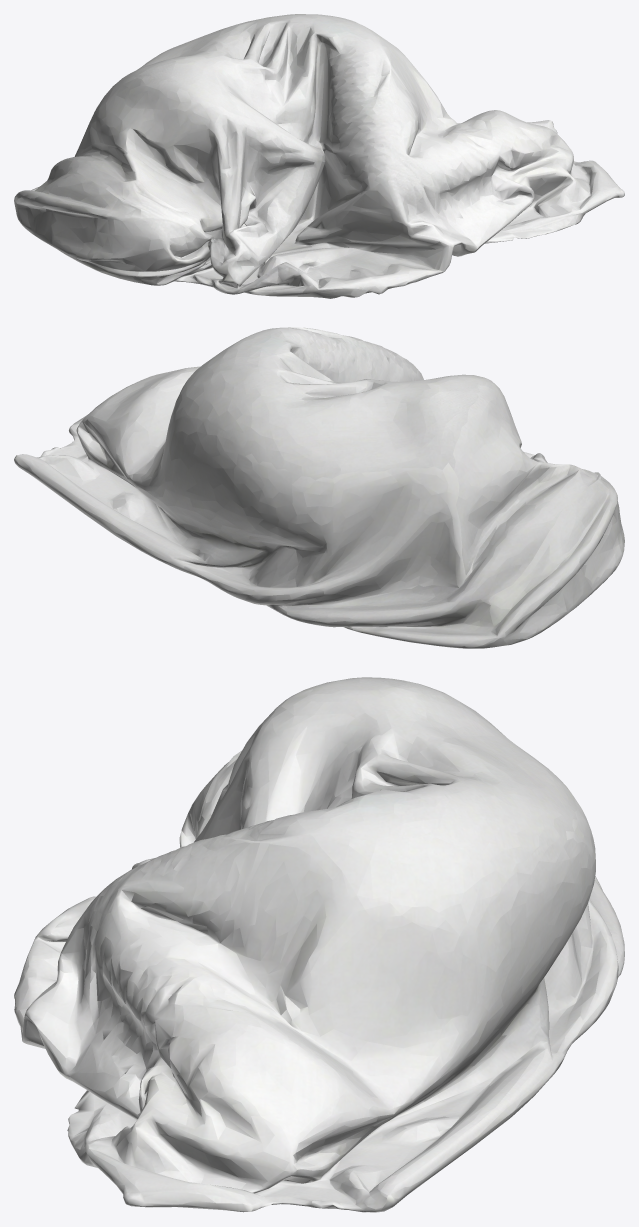
The model's file is A corpse that is curled up like it died in fear.fbx.
The picture shows the model from 3 angles, top to bottom: view 1: azimuth 30°, elevation 25°; view 2: azimuth 150°, elevation 25°; view 3: azimuth 270°, elevation 25°; orthographic projection. The views are drawn at different scales.
Parts seen in each view (by area): view 1: node_0; view 2: node_0; view 3: node_0.
Boxes of the visible parts, box(x1,y1,x2,y2) form: node_0: box(14, 14, 624, 298); node_0: box(14, 327, 624, 648); node_0: box(14, 677, 624, 1212).
Size of the model in its own units: 1.11 by 0.3414 by 0.7482.
Materials: 1 (1 with a texture image).
